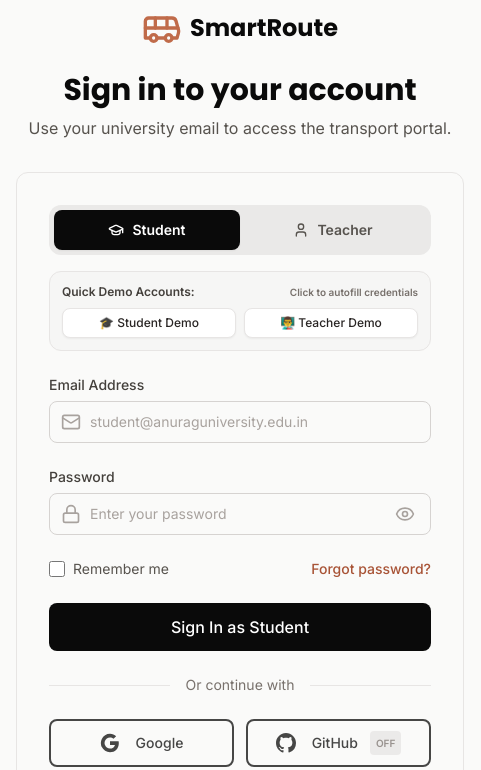
it: LoginPage Component › switches role selector tabs between Student and Teacher, updating labels and placeholders
Expected: the field with placeholder "student@anuraguniversity.edu.in" is shown, [49,401,431,443]
Expected: the button "Sign In as Student" is shown, [49,603,431,651]
// Switch to Teacher
Click the tab "Teacher": {"x": 333, "y": 230} [240,210,426,250]
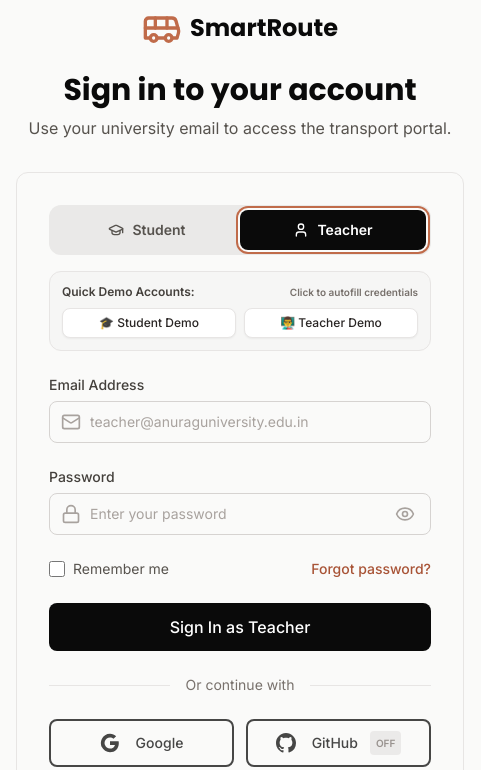
Result: the field with placeholder "teacher@anuraguniversity.edu.in" is shown at [49,401,431,443]
Result: the button "Sign In as Teacher" is shown at [49,603,431,651]
